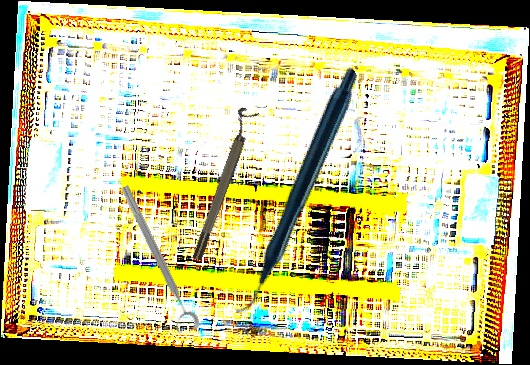Fixation Ring: (108, 182, 203, 338), (183, 106, 261, 262)
Handpiece: (157, 65, 432, 316)
